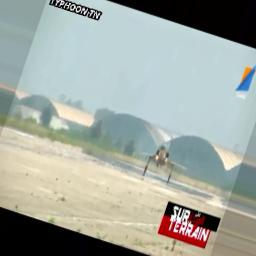Airplane: (140, 142, 188, 183)
